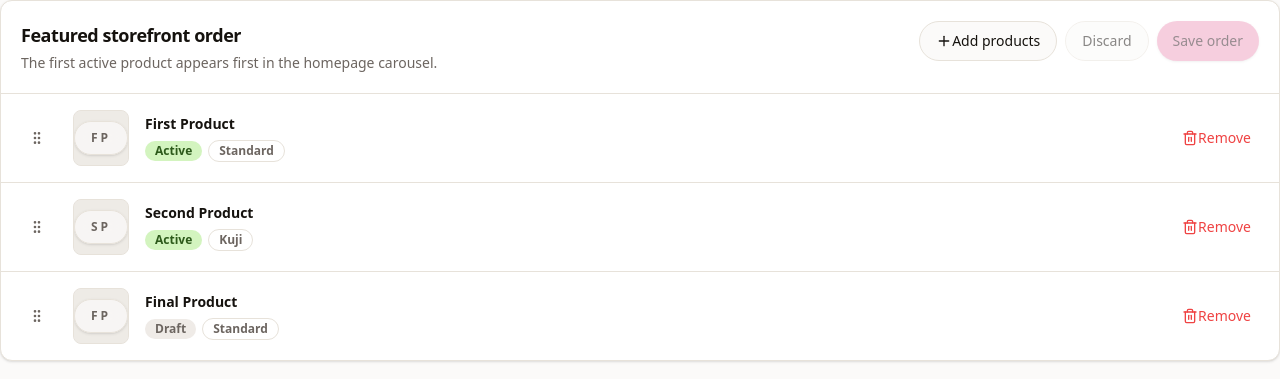
Test: FeaturedOrderSection › saves the remaining IDs after a local removal
Click the button with aria-label "Remove Second Product from Featured".
click(1217, 227)  # box [1170,209,1263,245]
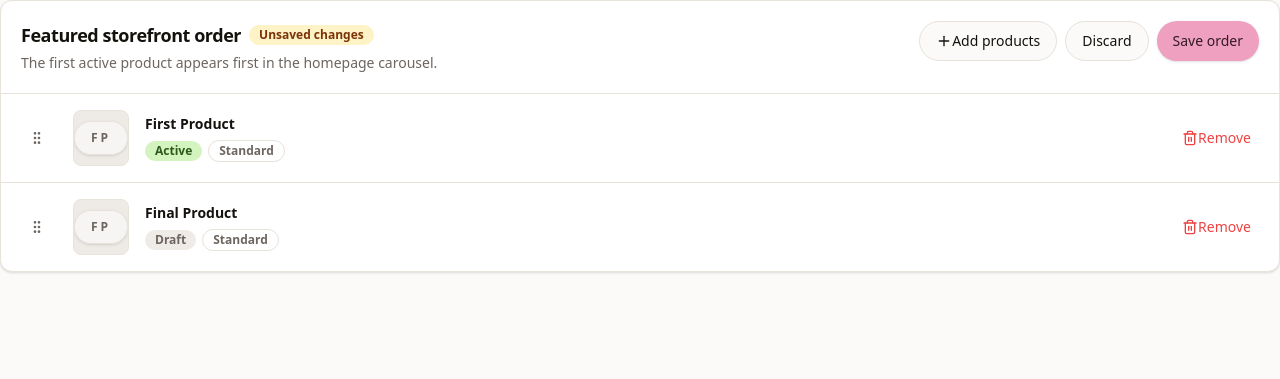
Click the button "Save order".
click(1208, 41)  # box [1156,21,1259,61]
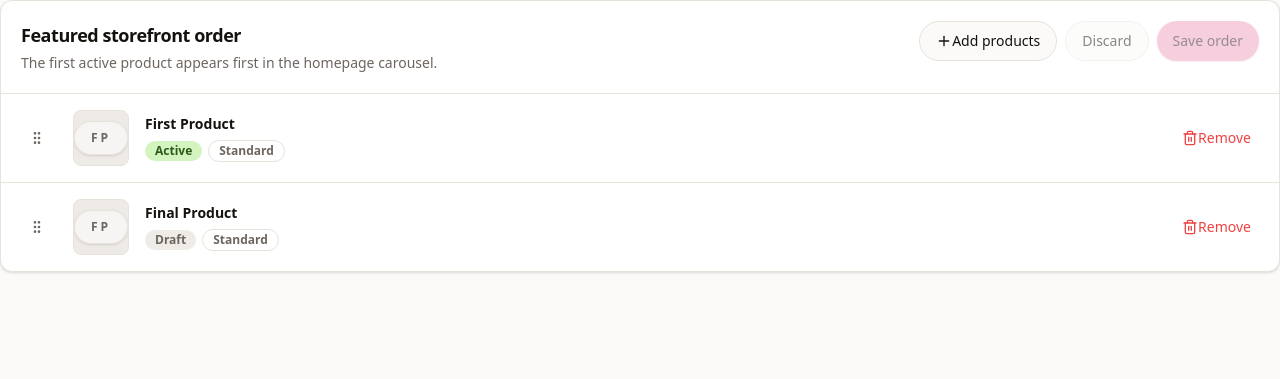
Expected: the button "Save order" is disabled, [1156,21,1259,61]
